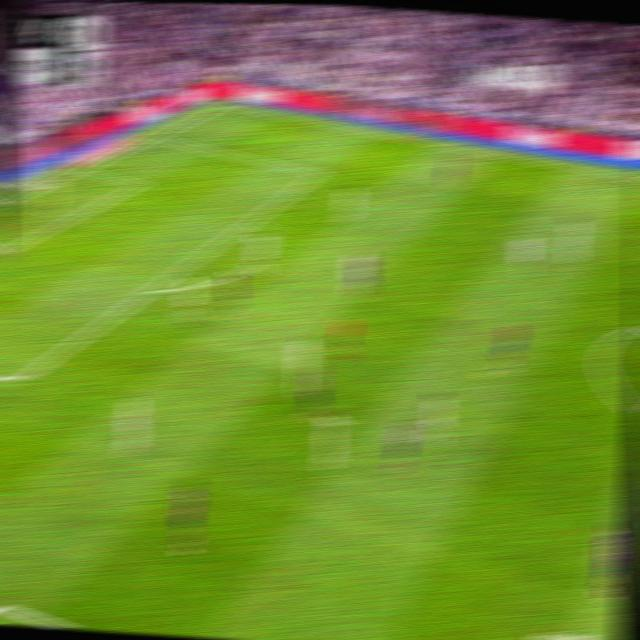bigarea_bottom_inner: (8, 368, 29, 392)
bigarea_top_inner: (310, 167, 326, 181)
bigarea_top_outter: (147, 130, 164, 141)
bottom_arc_area_intersection: (141, 279, 162, 299)
corner: (216, 98, 235, 108)
smallarea_top_inner: (130, 179, 145, 189)
top_arc_area_intersection: (243, 210, 262, 227)
